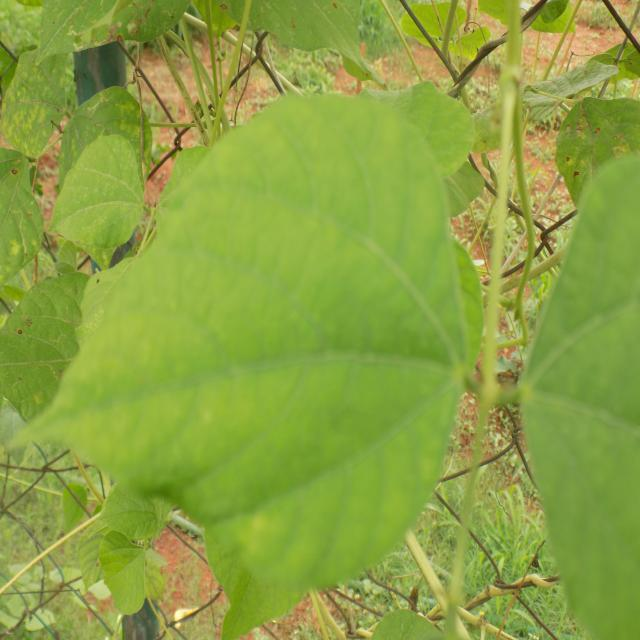Dolicos bean_cercospora leaf spot: (0, 268, 130, 440)
Dolicos bean_healthy: (10, 91, 470, 634), (45, 128, 147, 270)
